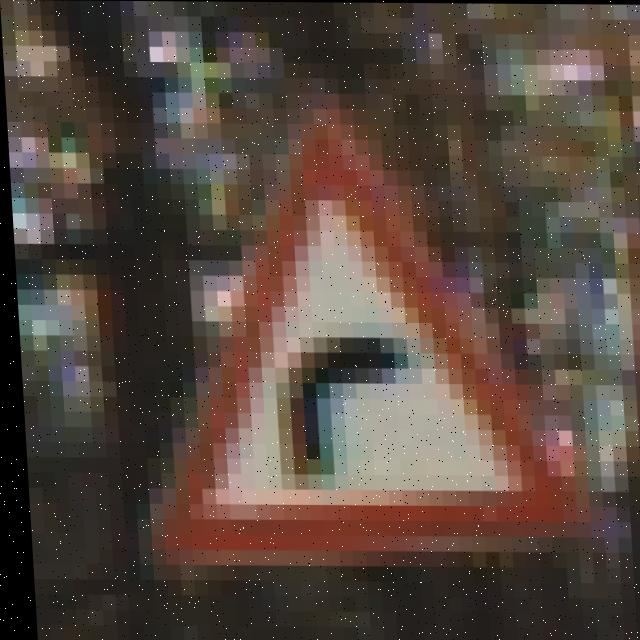right_turn: (180, 150, 603, 584)
